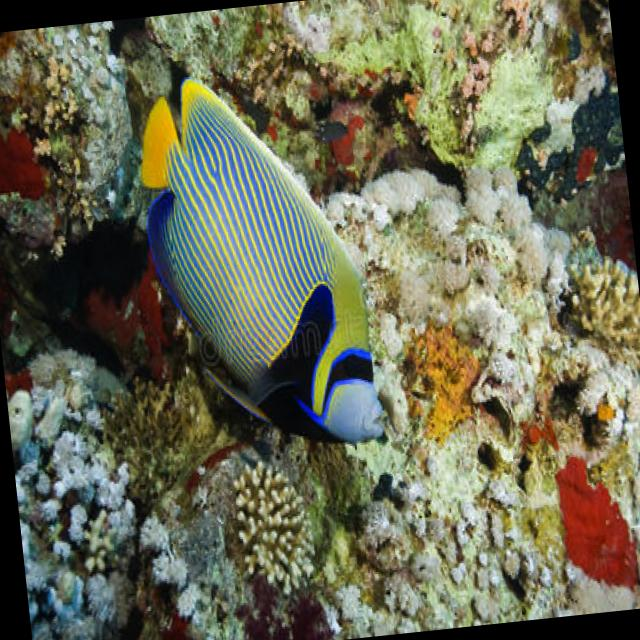AngelFish: (128, 54, 389, 464)
